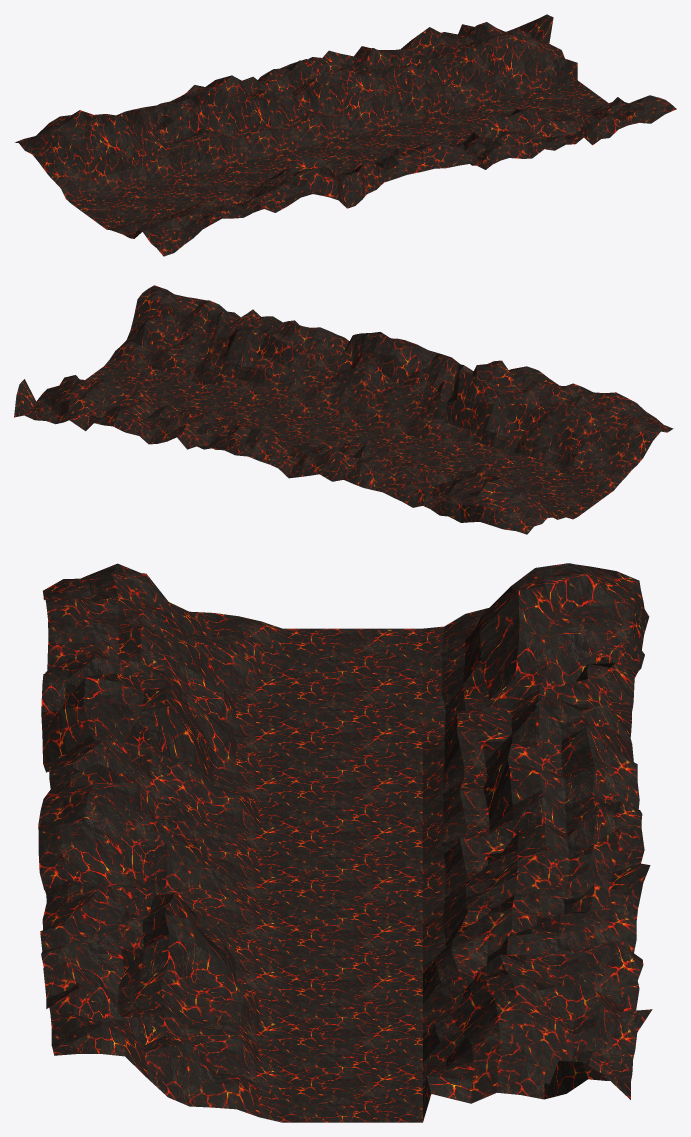
Rendered from FireWorldTrack.fbx.
The picture shows the model from 3 angles, top to bottom: view 1: azimuth 30°, elevation 25°; view 2: azimuth 150°, elevation 25°; view 3: azimuth 270°, elevation 25°; orthographic projection. The views are drawn at different scales.
Parts seen in each view (by area): view 1: Plane; view 2: Plane; view 3: Plane.
Part boxes in pixels (x1,y1,x2,y2): Plane: (15, 14, 676, 256); Plane: (14, 285, 673, 534); Plane: (38, 563, 652, 1122).
Bounding box in the file's own units: 1030 × 102 × 525.
1 material, 1 textured.
